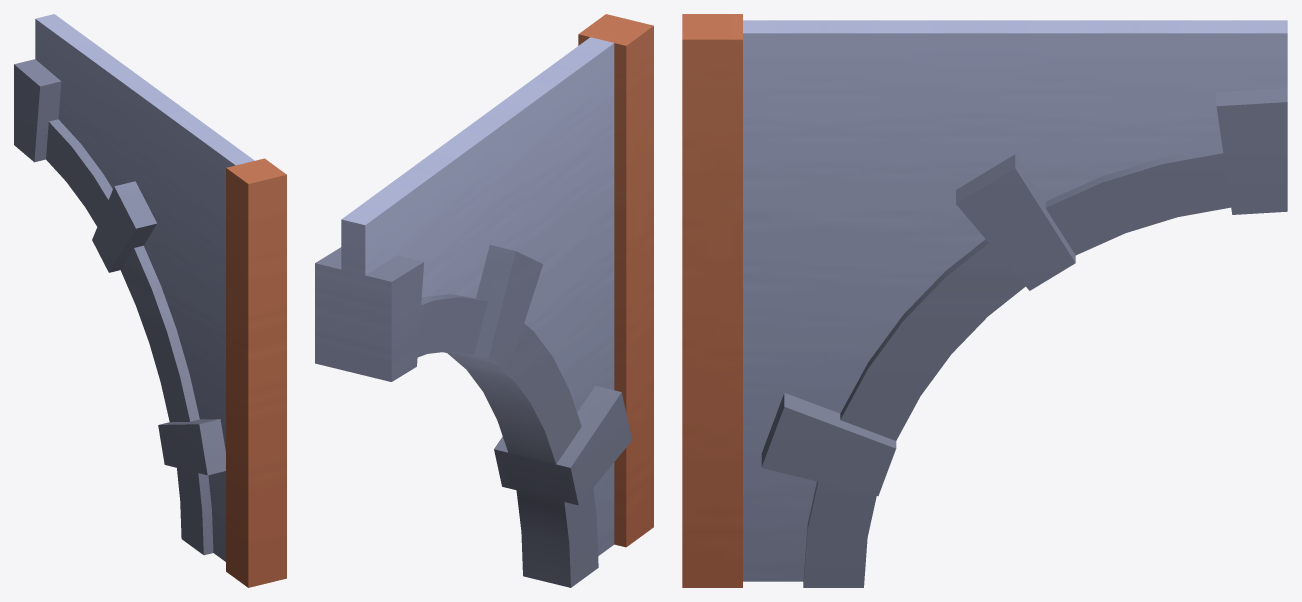
The model's file is wallArchTopDetail.fbx.
3 renders of one model, left to right at view 1: azimuth 30°, elevation 25°; view 2: azimuth 150°, elevation 25°; view 3: azimuth 270°, elevation 25°, orthographic. The views are drawn at different scales.
Parts seen in each view (by area): view 1: wallArchTopDetail; view 2: wallArchTopDetail; view 3: wallArchTopDetail.
Part boxes in pixels (<box>): wallArchTopDetail: <box>14,14,286,587</box>; wallArchTopDetail: <box>315,14,653,587</box>; wallArchTopDetail: <box>682,14,1287,587</box>.
Size of the model in its own units: 0.16 by 1 by 1.
